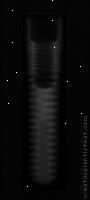Implant Direct: (23, 14, 66, 190)
